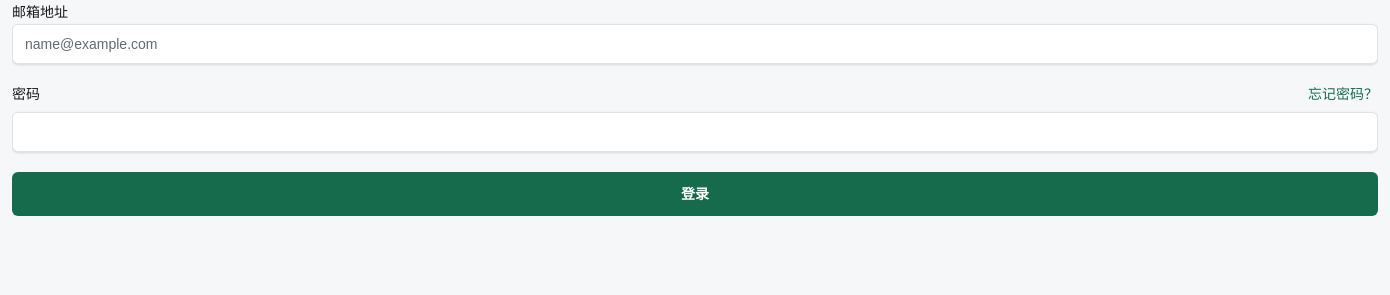
AuthForm › shows a safe server error after submission
This screenshot has width=1390, height=295.
In the field labelled "邮箱地址": (695, 44) [12,24,1378,64], type "person@example.com"
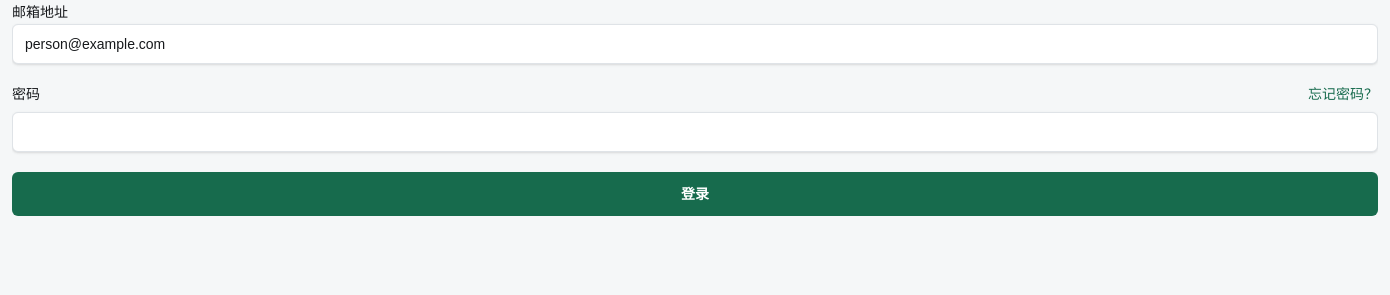
In the password field labelled "密码": (695, 132) [12,112,1378,152], type "incorrect-password"
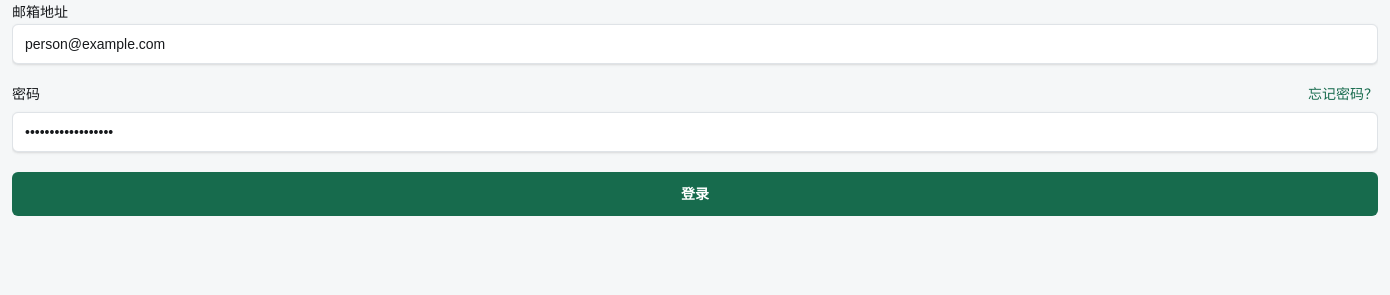
Submit the form "登录"
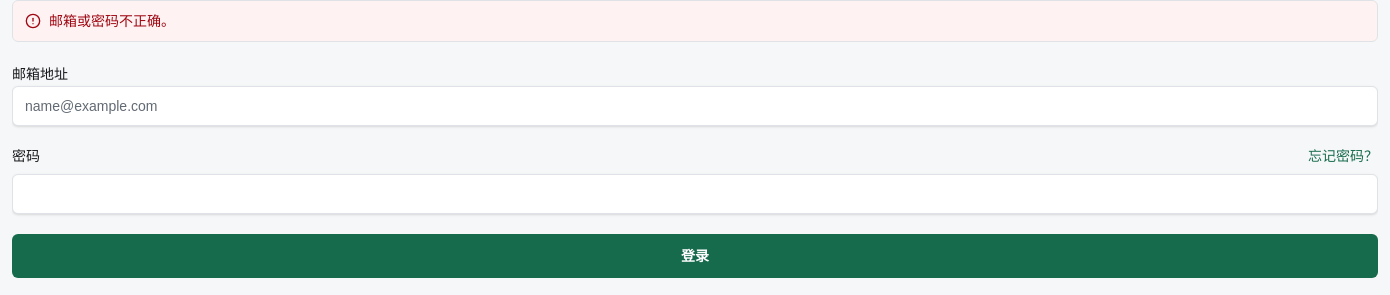
Expected: the message reads "邮箱或密码不正确。", [49,13,175,29]
